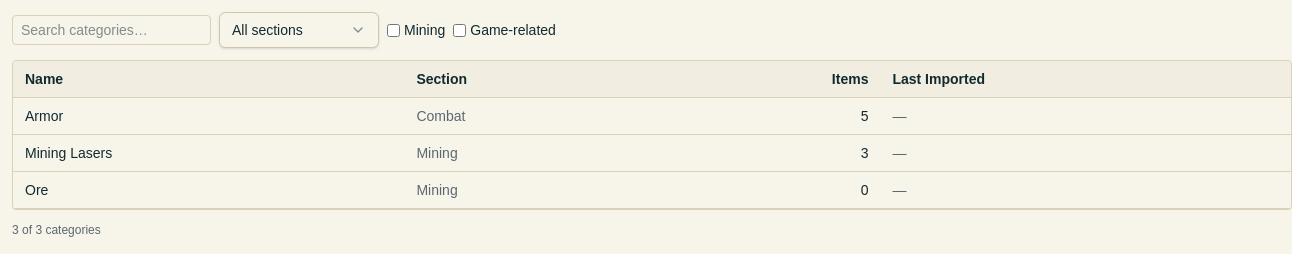
Test case: CategorySelector › filters by section
Step 1. Click the dropdown labelled "All sections" → [299, 30], box [219,12,379,48]
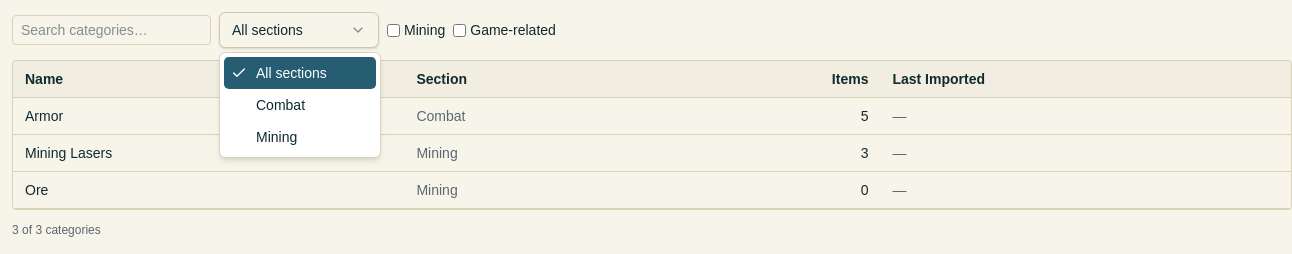
Step 2. Click the option "Mining" → [277, 137], box [256,129,297,145]
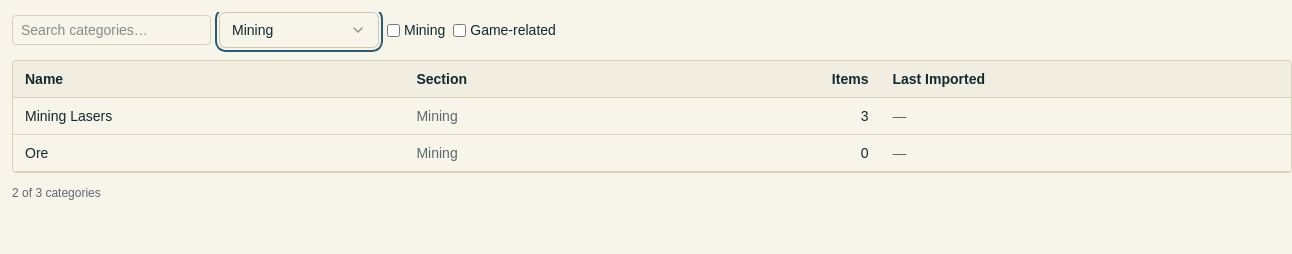
Expected: the text "Mining Lasers" is shown, [13,98,404,134]
Expected: the text "Armor" is gone
